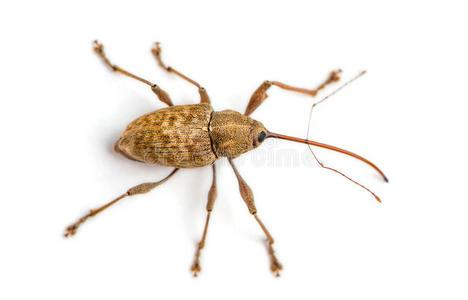Curculionidae: (63, 39, 389, 277)
